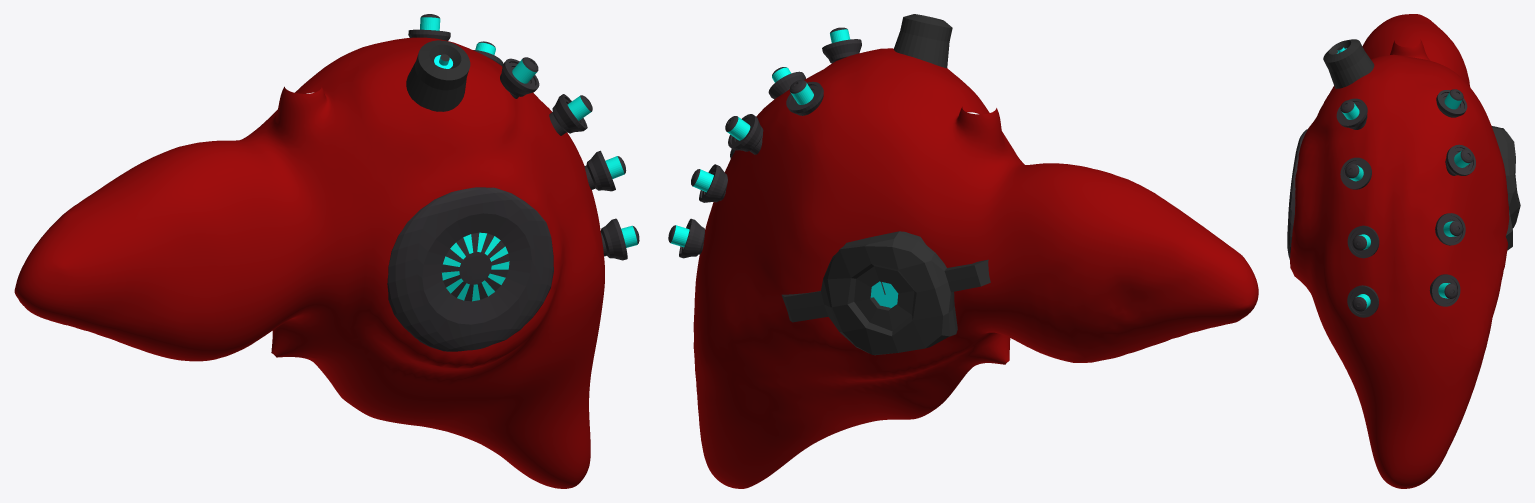
File: HigadoAstralis.glb
3 views of the same model, side by side, from view 1: azimuth 30°, elevation 25°; view 2: azimuth 150°, elevation 25°; view 3: azimuth 270°, elevation 25° (orthographic). The views are drawn at different scales.
Visible parts, largest first — view 1: Mesh0, Cylinder, Cube; view 2: Mesh0, Cube, Cylinder; view 3: Mesh0, Cylinder, Cube.
Part boxes in pixels (x1,y1,x2,y2): Mesh0: [14, 37, 604, 488]; Cylinder: [387, 14, 639, 351]; Cube: [406, 40, 470, 111]; Mesh0: [693, 48, 1258, 488]; Cube: [781, 14, 990, 355]; Cylinder: [668, 27, 861, 258]; Mesh0: [1290, 14, 1509, 488]; Cylinder: [1287, 89, 1475, 317]; Cube: [1323, 39, 1520, 250].
Size of the model in its own units: 204 by 166 by 91.13.
